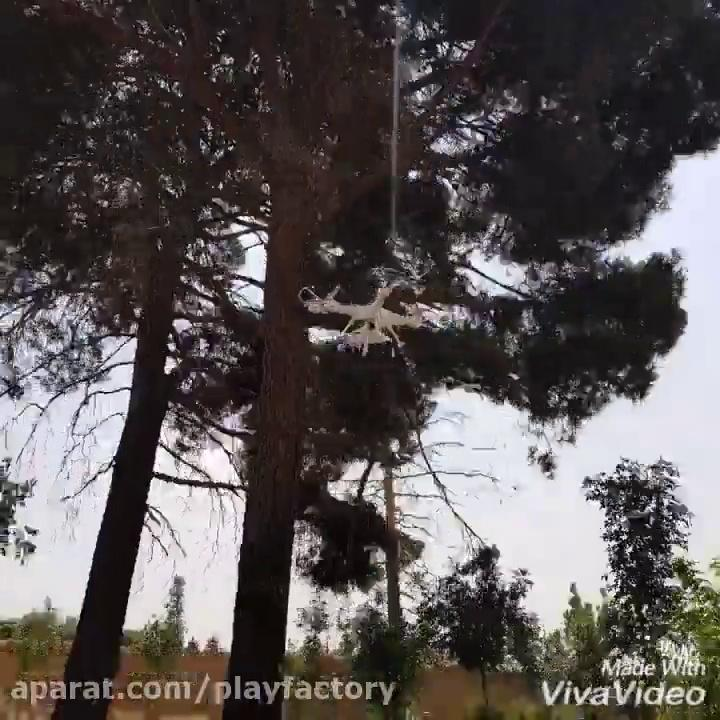drone: (306, 277, 433, 349)
